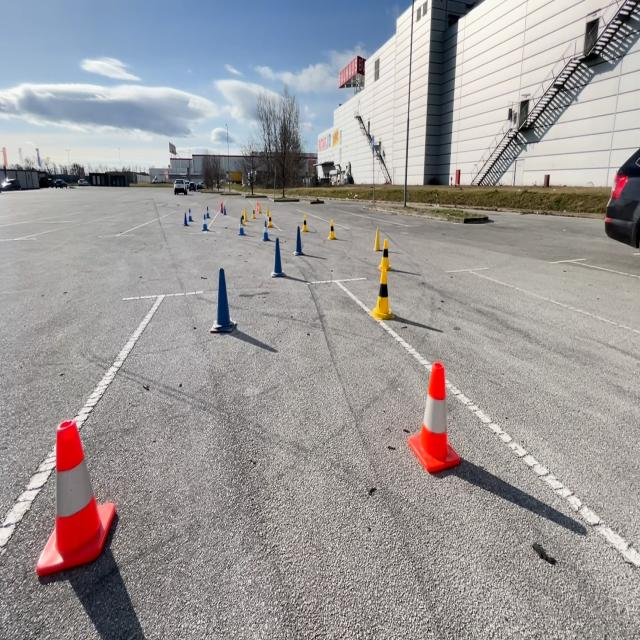blue_cone: (210, 267, 238, 334), (271, 238, 286, 278), (292, 226, 304, 256), (260, 221, 270, 242), (238, 216, 246, 235), (202, 214, 210, 231), (182, 212, 189, 225), (188, 208, 193, 221), (206, 206, 210, 218), (223, 205, 227, 215), (220, 205, 224, 213)
orange_cone: (34, 418, 116, 579), (408, 362, 461, 474), (220, 201, 222, 212), (258, 202, 259, 213)
yellow_cone: (370, 269, 395, 320), (377, 239, 392, 271), (372, 227, 383, 252), (327, 220, 337, 240), (301, 214, 310, 232), (267, 212, 274, 228), (240, 210, 246, 226), (243, 207, 249, 222), (251, 207, 256, 219), (265, 203, 269, 216), (258, 203, 262, 214)
